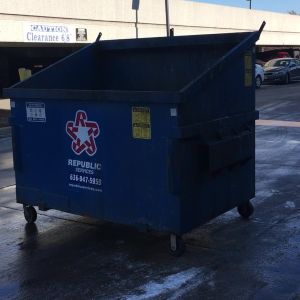Dumpster: (3, 20, 273, 258)
